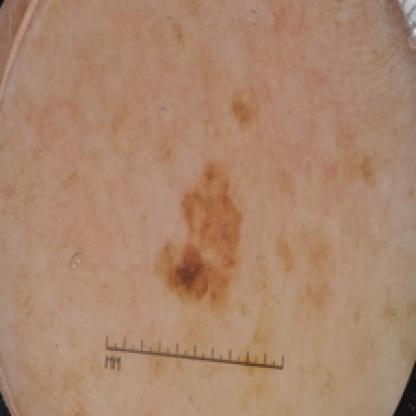Skin_Cancer-Malignant: (155, 161, 250, 310)
